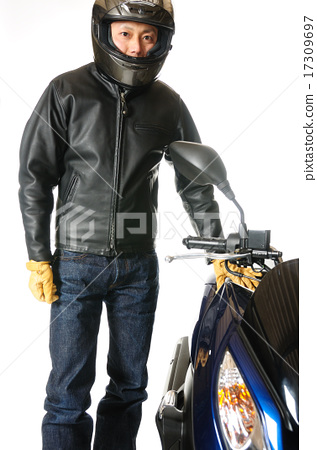helmet: (88, 3, 178, 80)
